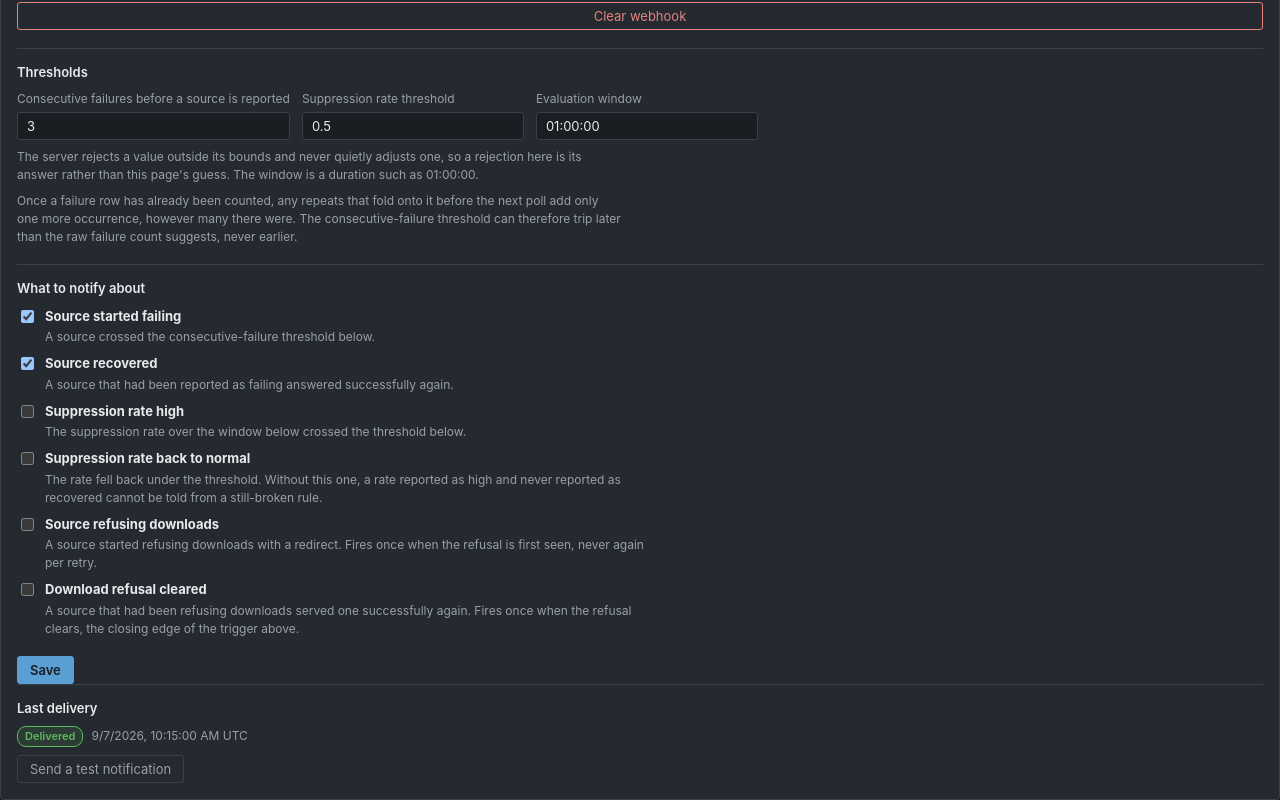
Notifications section › renders Unreachable as its own distinct outcome
(page scrolled)
What coordinates should you click on to do the following:
click the button "Send a test notification"
I would click on:
 (101, 768)
Its box is [17,754,184,782].
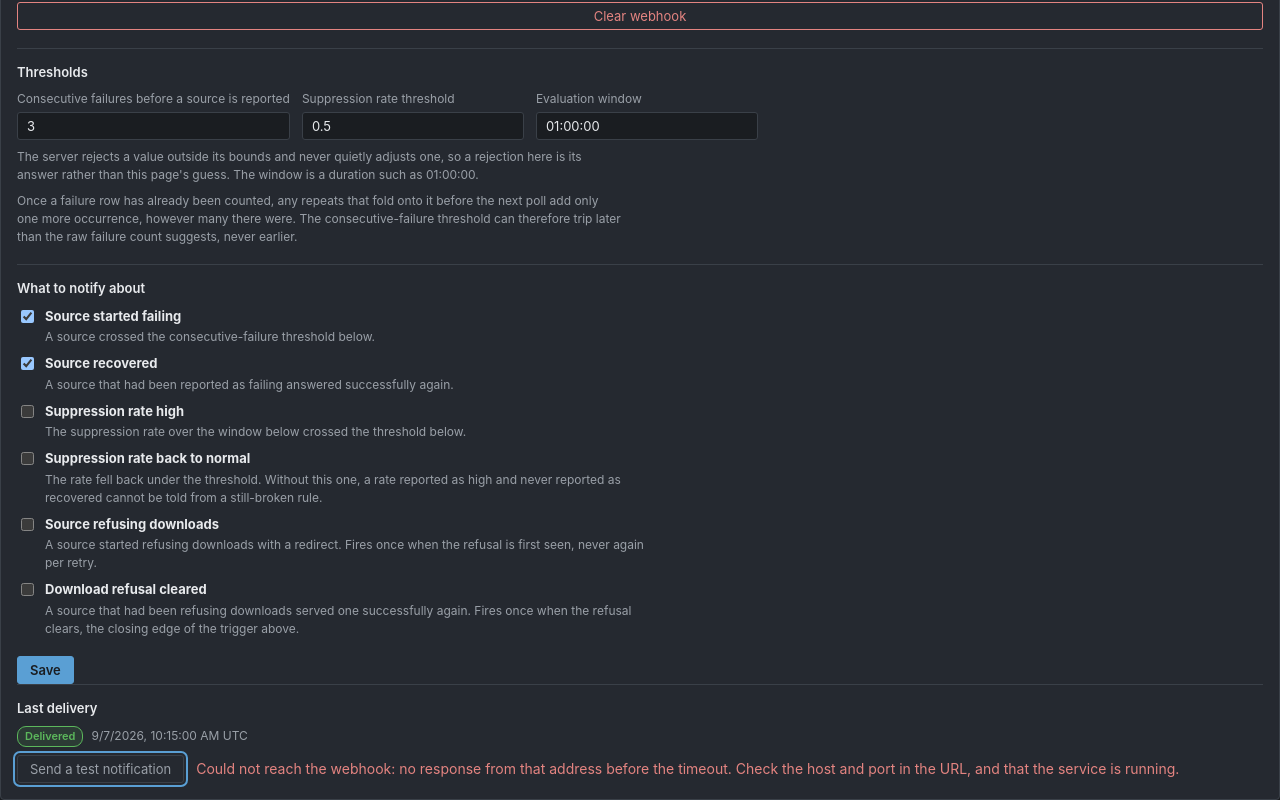
Expected: the text "no response from that address" is shown, [196,760,1179,777]
